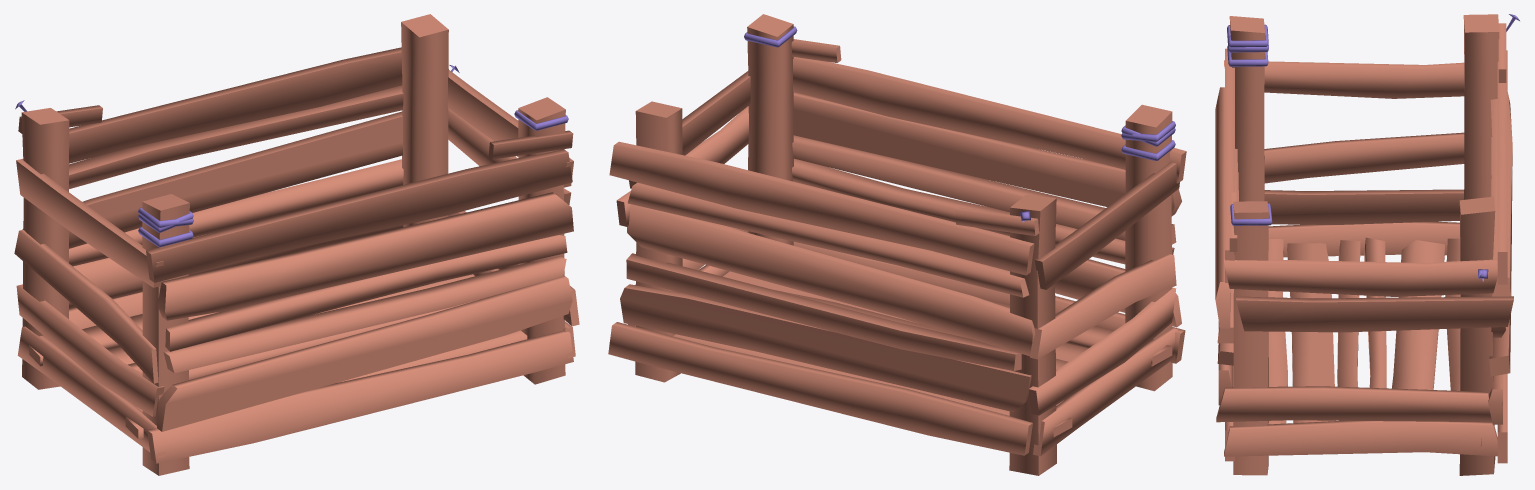
Rendered from prop_wood_a.fbx.
The picture shows the model from 3 angles, left to right: view 1: azimuth 30°, elevation 25°; view 2: azimuth 150°, elevation 25°; view 3: azimuth 270°, elevation 25°; orthographic projection.
Parts seen in each view (by area): view 1: Cube.030, Cube.029; view 2: Cube.030, Cube.029; view 3: Cube.030, Cube.029.
Part boxes in pixels (box(x1,y1,x2,y2)): Cube.030: box(14, 14, 579, 475); Cube.029: box(15, 65, 568, 247); Cube.030: box(608, 14, 1186, 475); Cube.029: box(744, 26, 1175, 222); Cube.030: box(1215, 14, 1513, 475); Cube.029: box(1227, 14, 1519, 281).
Bounding box in the file's own units: 2.87 × 1.7 × 1.75.
